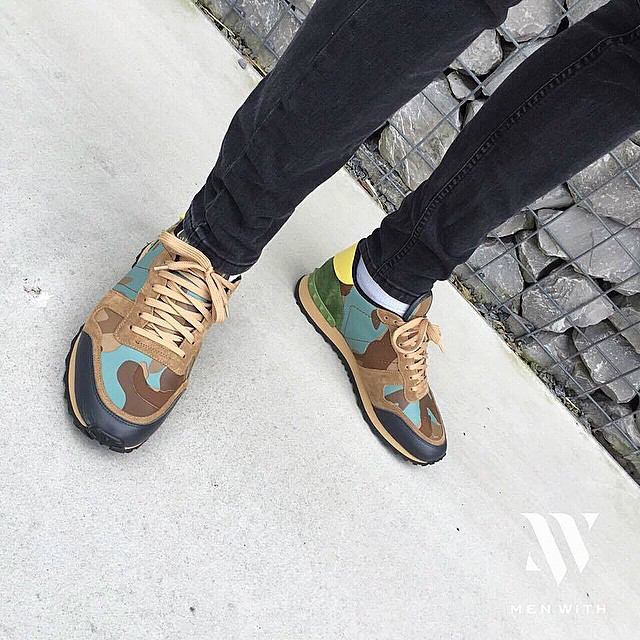sneaker: (38, 190, 248, 476), (282, 218, 458, 476)
